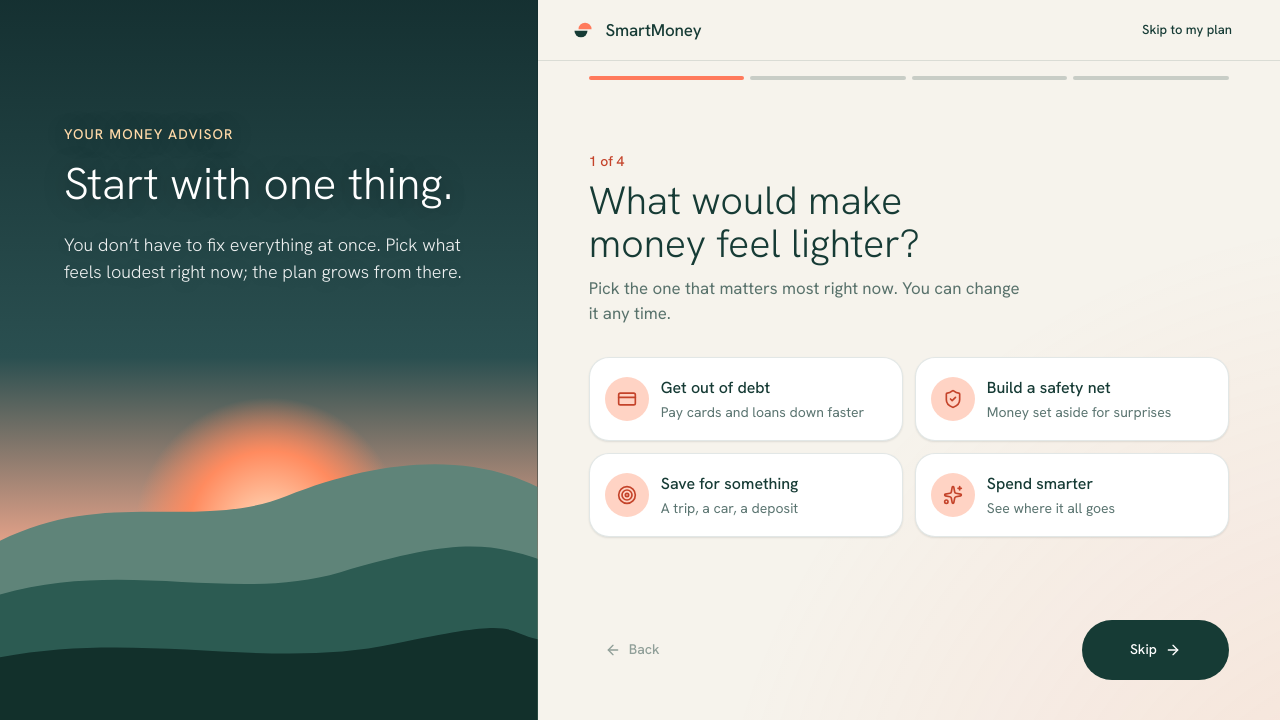
setup › lets the bills step be skipped
Click the button "Skip": (1155, 650) [1082,620,1229,680]
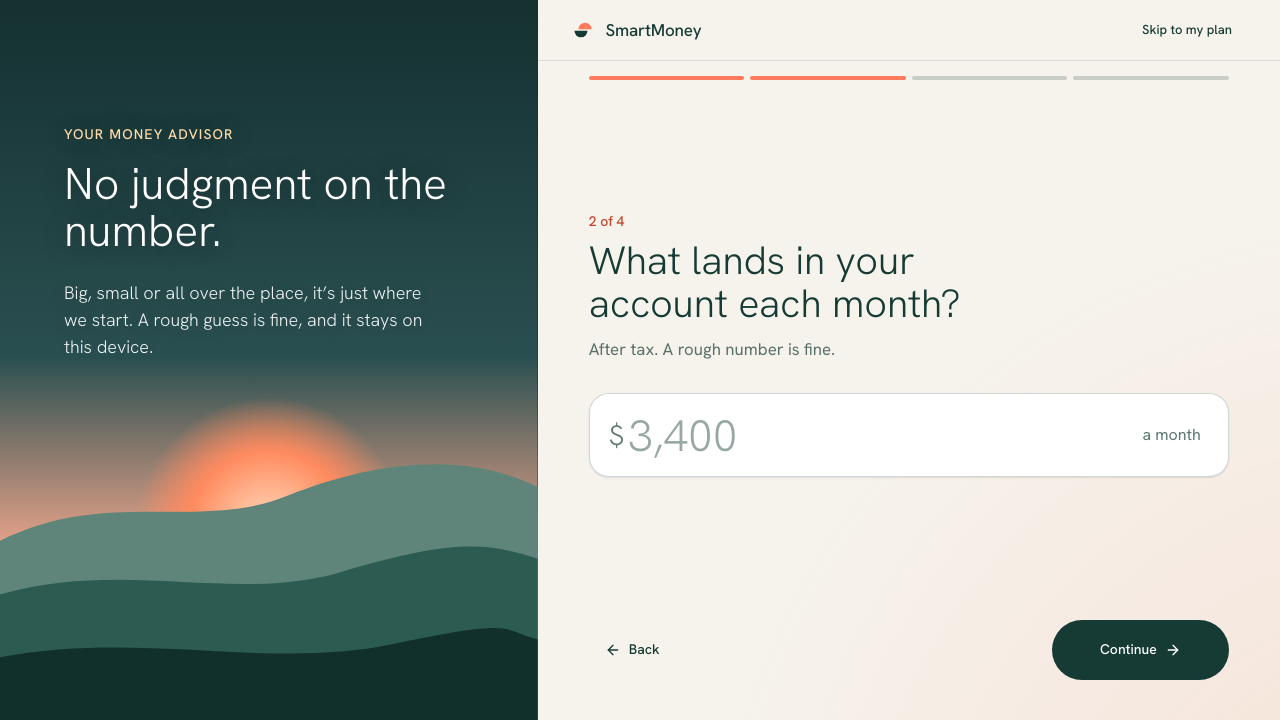
Click the button "Continue": (1140, 650) [1052,620,1229,680]
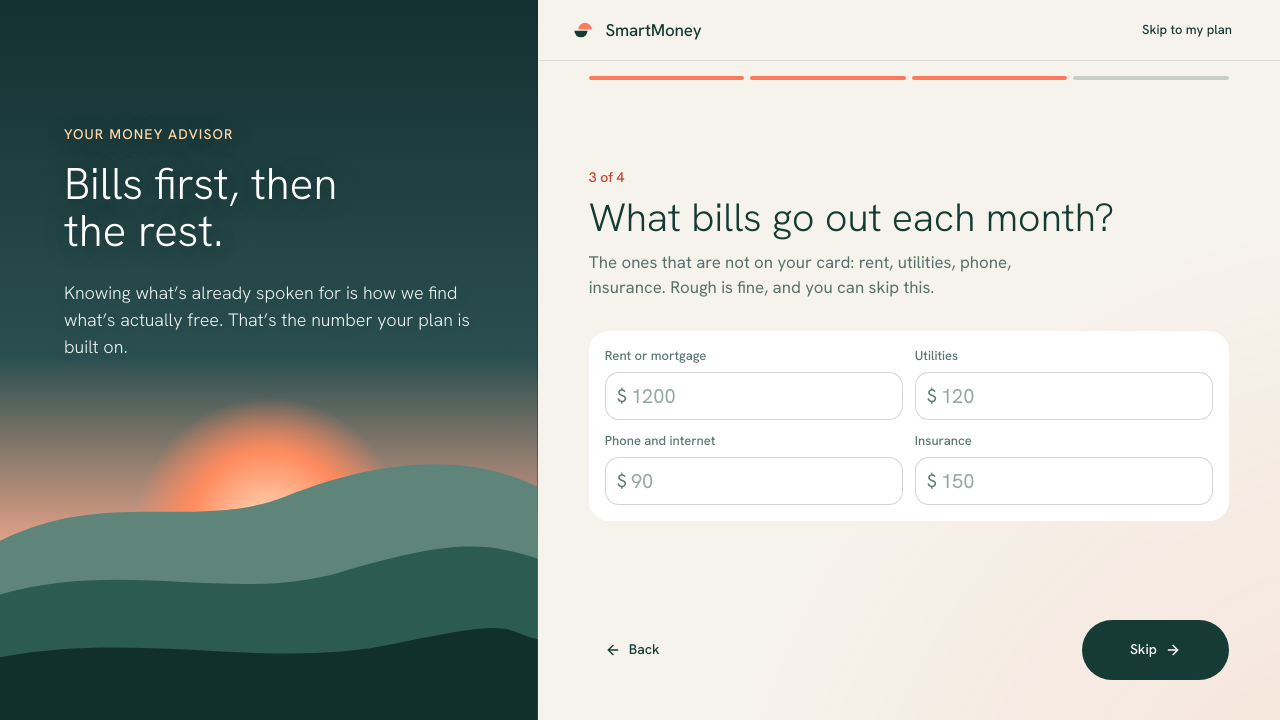
Expected: the heading "What bills go out each month?" is shown, [589,190,1114,242]
Click the button "Skip": (1155, 650) [1082,620,1229,680]
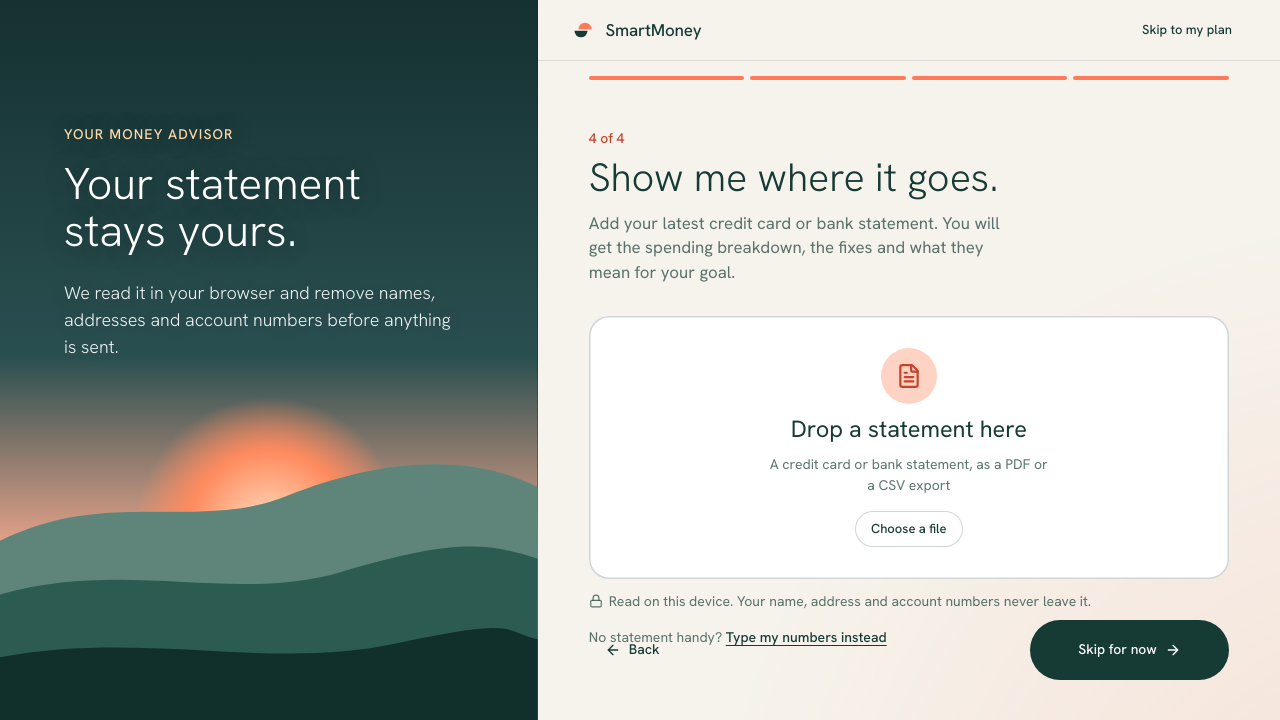
Expected: the heading "Show me where it goes." is shown, [589,151,999,203]
